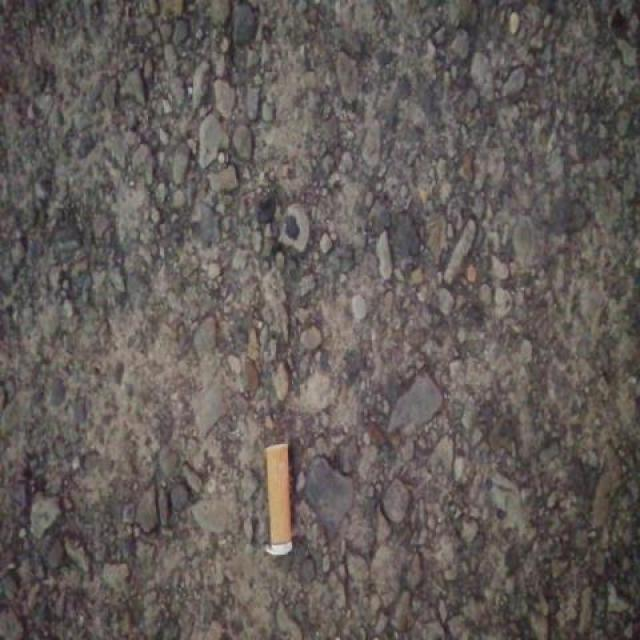non-organic waste: (260, 438, 297, 559)
